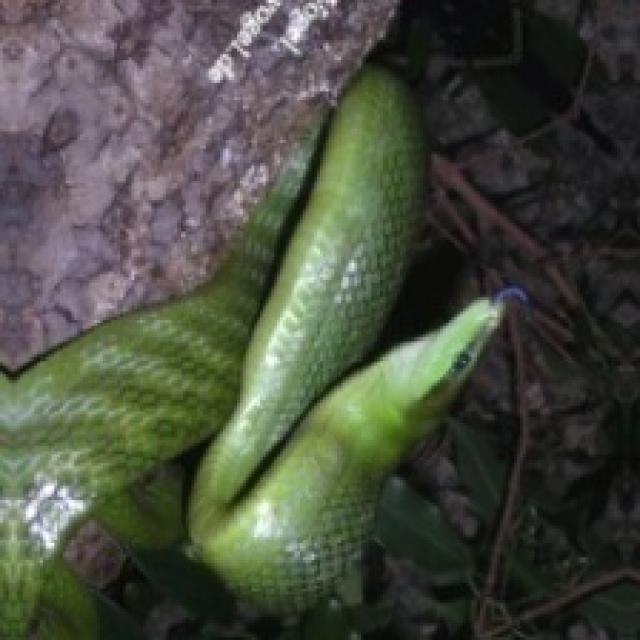red-tailed green ratsnake: (0, 66, 509, 637), (0, 129, 314, 637)
